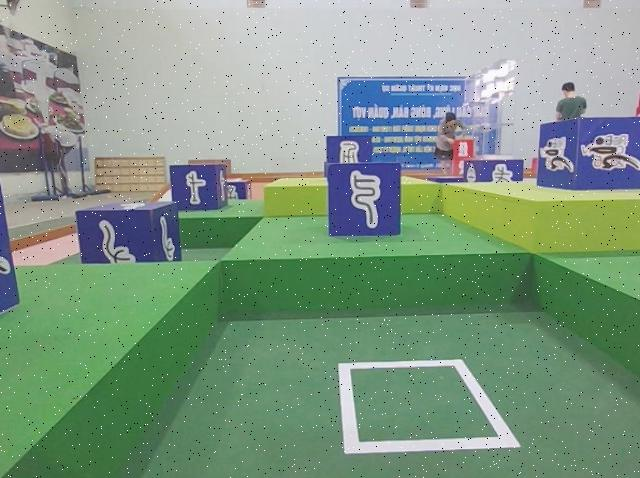R1 Blue: (538, 116, 640, 191)
R2 Fake Blue: (327, 163, 403, 240), (462, 159, 521, 183), (329, 135, 376, 165)
R2 Real Blue: (77, 204, 183, 267), (171, 166, 229, 213)
